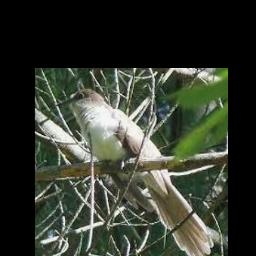Cuckoo: (54, 89, 214, 256)
